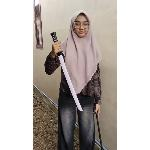Pedang: (48, 29, 86, 113)
